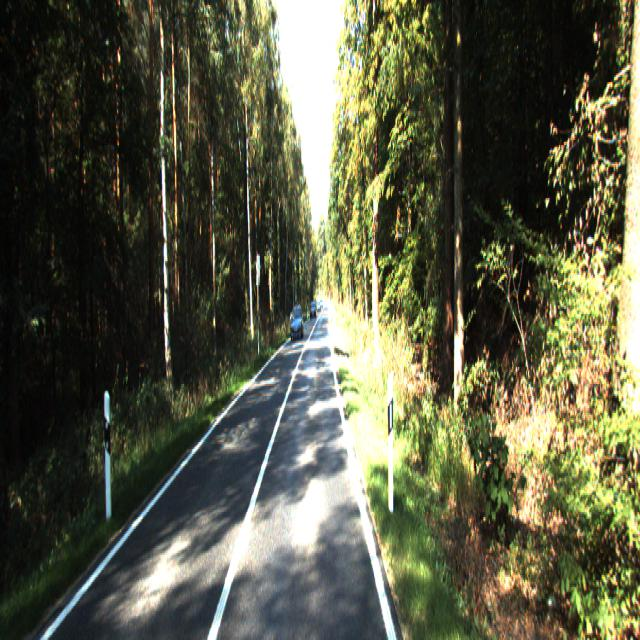Car: (290, 304, 304, 341)
